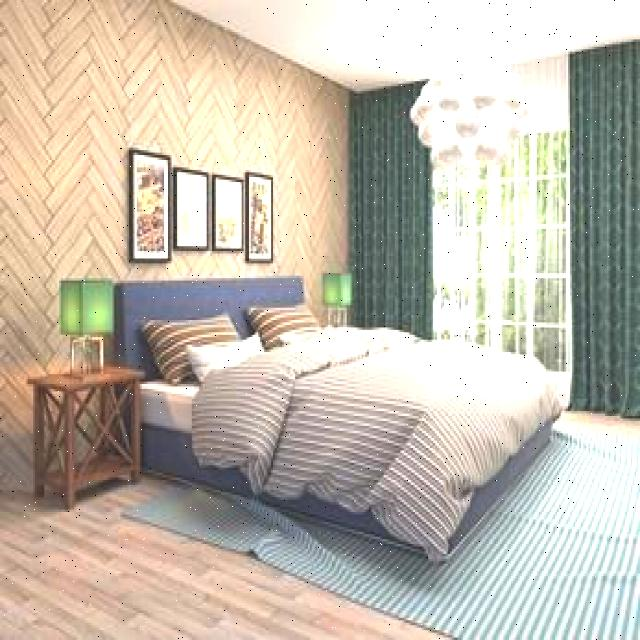bed: (111, 271, 564, 495)
